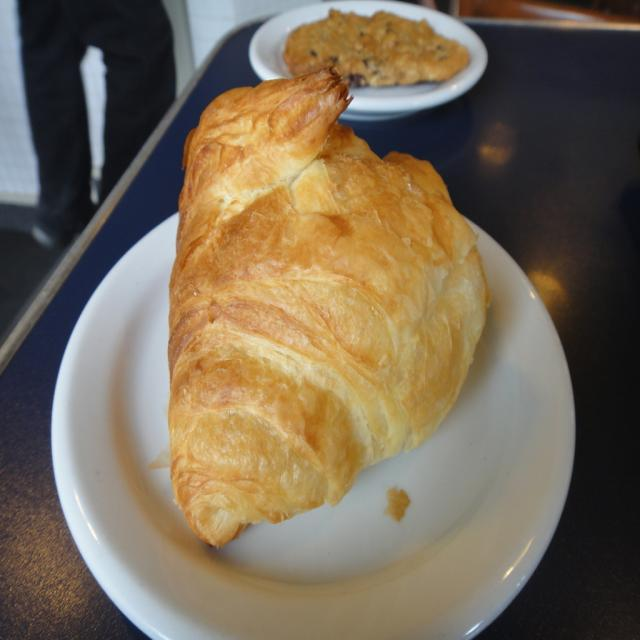Croissant: (145, 59, 483, 543)
